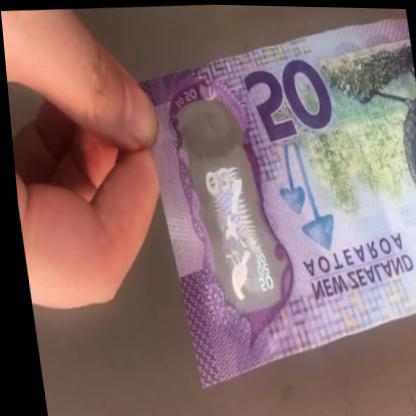50B: (181, 118, 271, 305)
